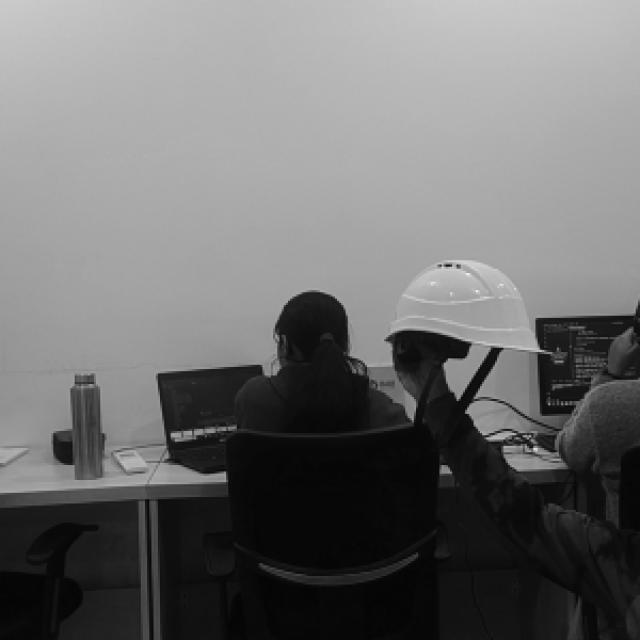safety_helmet: (386, 260, 548, 354)
